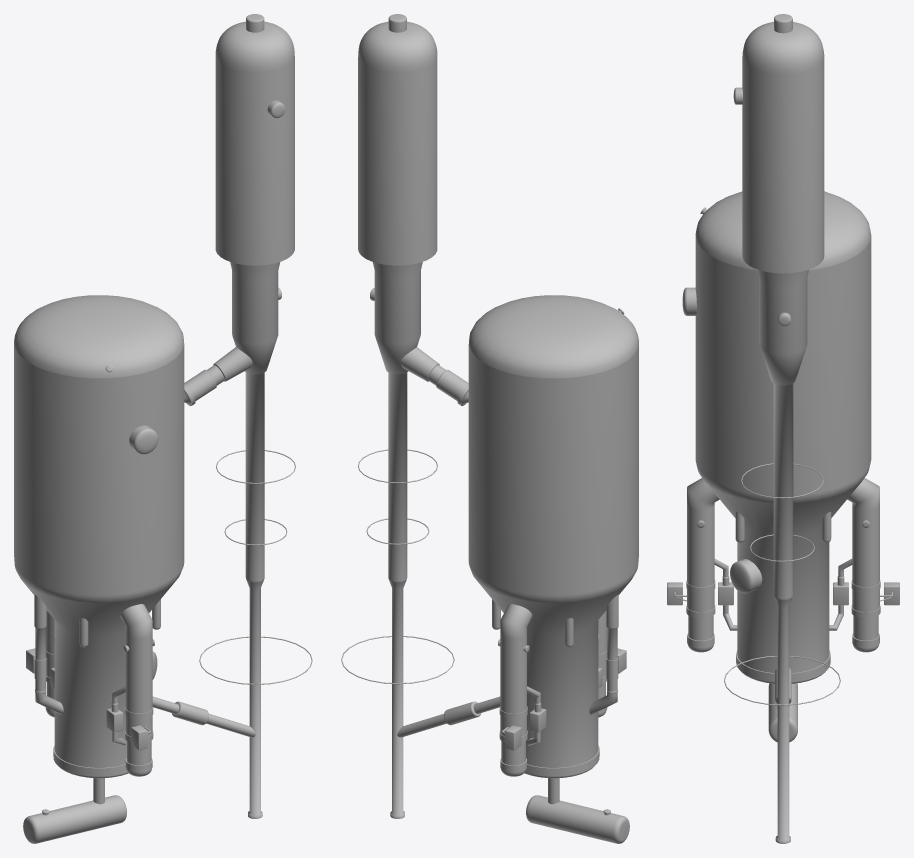
File: body.glb
3 views of the same model, side by side, from view 1: azimuth 30°, elevation 25°; view 2: azimuth 150°, elevation 25°; view 3: azimuth 270°, elevation 25° (orthographic). The views are drawn at different scales.
Visible parts, largest first — view 1: 1_body, 2_body, 1_leg_main_001 (×2), 1_bottom_load, connection_upper, 1_leg_front, connection_under, 1_route_b_001; view 2: 1_body, 2_body, 1_leg_main_001 (×2), 1_bottom_load, connection_upper, 1_leg_front, connection_under; view 3: 1_body, 2_body, 1_leg_main_001 (×2), 1_bottom_load, 1_route_b_001.
Boxes of the visible parts, <box> form: 1_body: <box>14,295,184,804</box>; 2_body: <box>215,14,294,818</box>; 1_leg_main_001 (×2): <box>45,604,153,776</box>; 1_bottom_load: <box>23,795,126,843</box>; connection_upper: <box>184,347,252,405</box>; 1_leg_front: <box>34,594,63,714</box>; connection_under: <box>152,696,255,737</box>; 1_route_b_001: <box>129,425,158,454</box>; 1_body: <box>468,295,638,804</box>; 2_body: <box>358,14,437,818</box>; 1_leg_main_001 (×2): <box>499,604,607,776</box>; 1_bottom_load: <box>526,795,629,843</box>; connection_upper: <box>400,347,468,405</box>; 1_leg_front: <box>589,594,618,714</box>; connection_under: <box>397,696,500,737</box>; 1_body: <box>695,191,871,708</box>; 2_body: <box>742,14,824,843</box>; 1_leg_main_001 (×2): <box>686,478,880,652</box>; 1_bottom_load: <box>768,683,797,742</box>; 1_route_b_001: <box>730,559,762,593</box>.
Bounding box in the file's own units: 45.75 × 125 × 32.01.
1 material, 1 textured.
